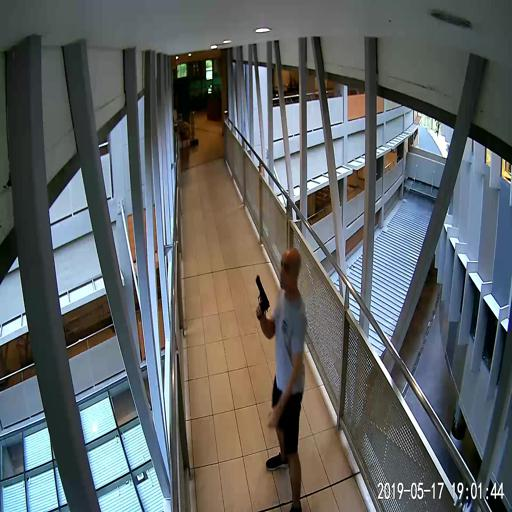pistol: (256, 273, 269, 319)
